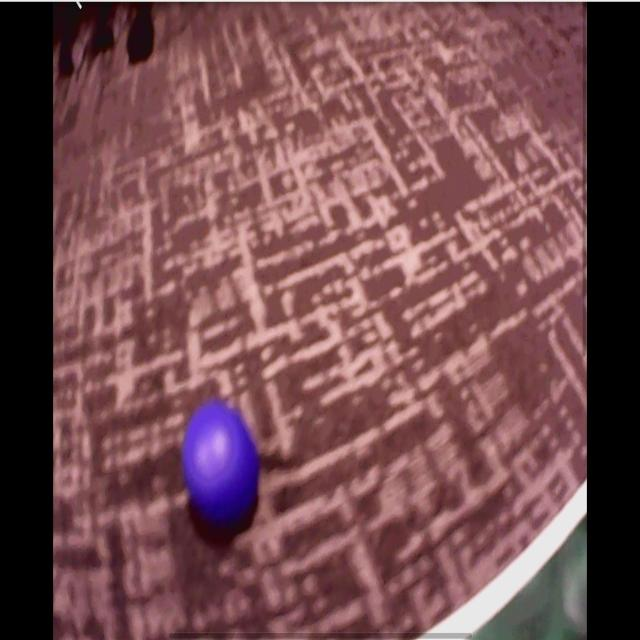ball: (184, 404, 261, 528)
